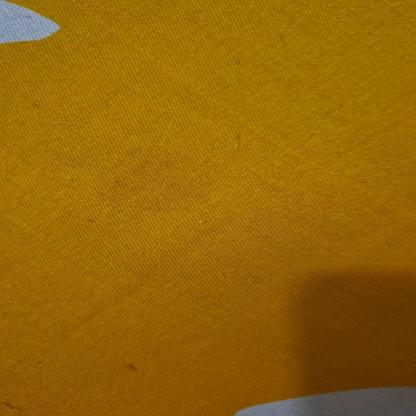spot: (88, 143, 215, 215), (1, 401, 24, 410), (125, 364, 140, 375), (84, 217, 98, 226), (30, 103, 42, 108)
